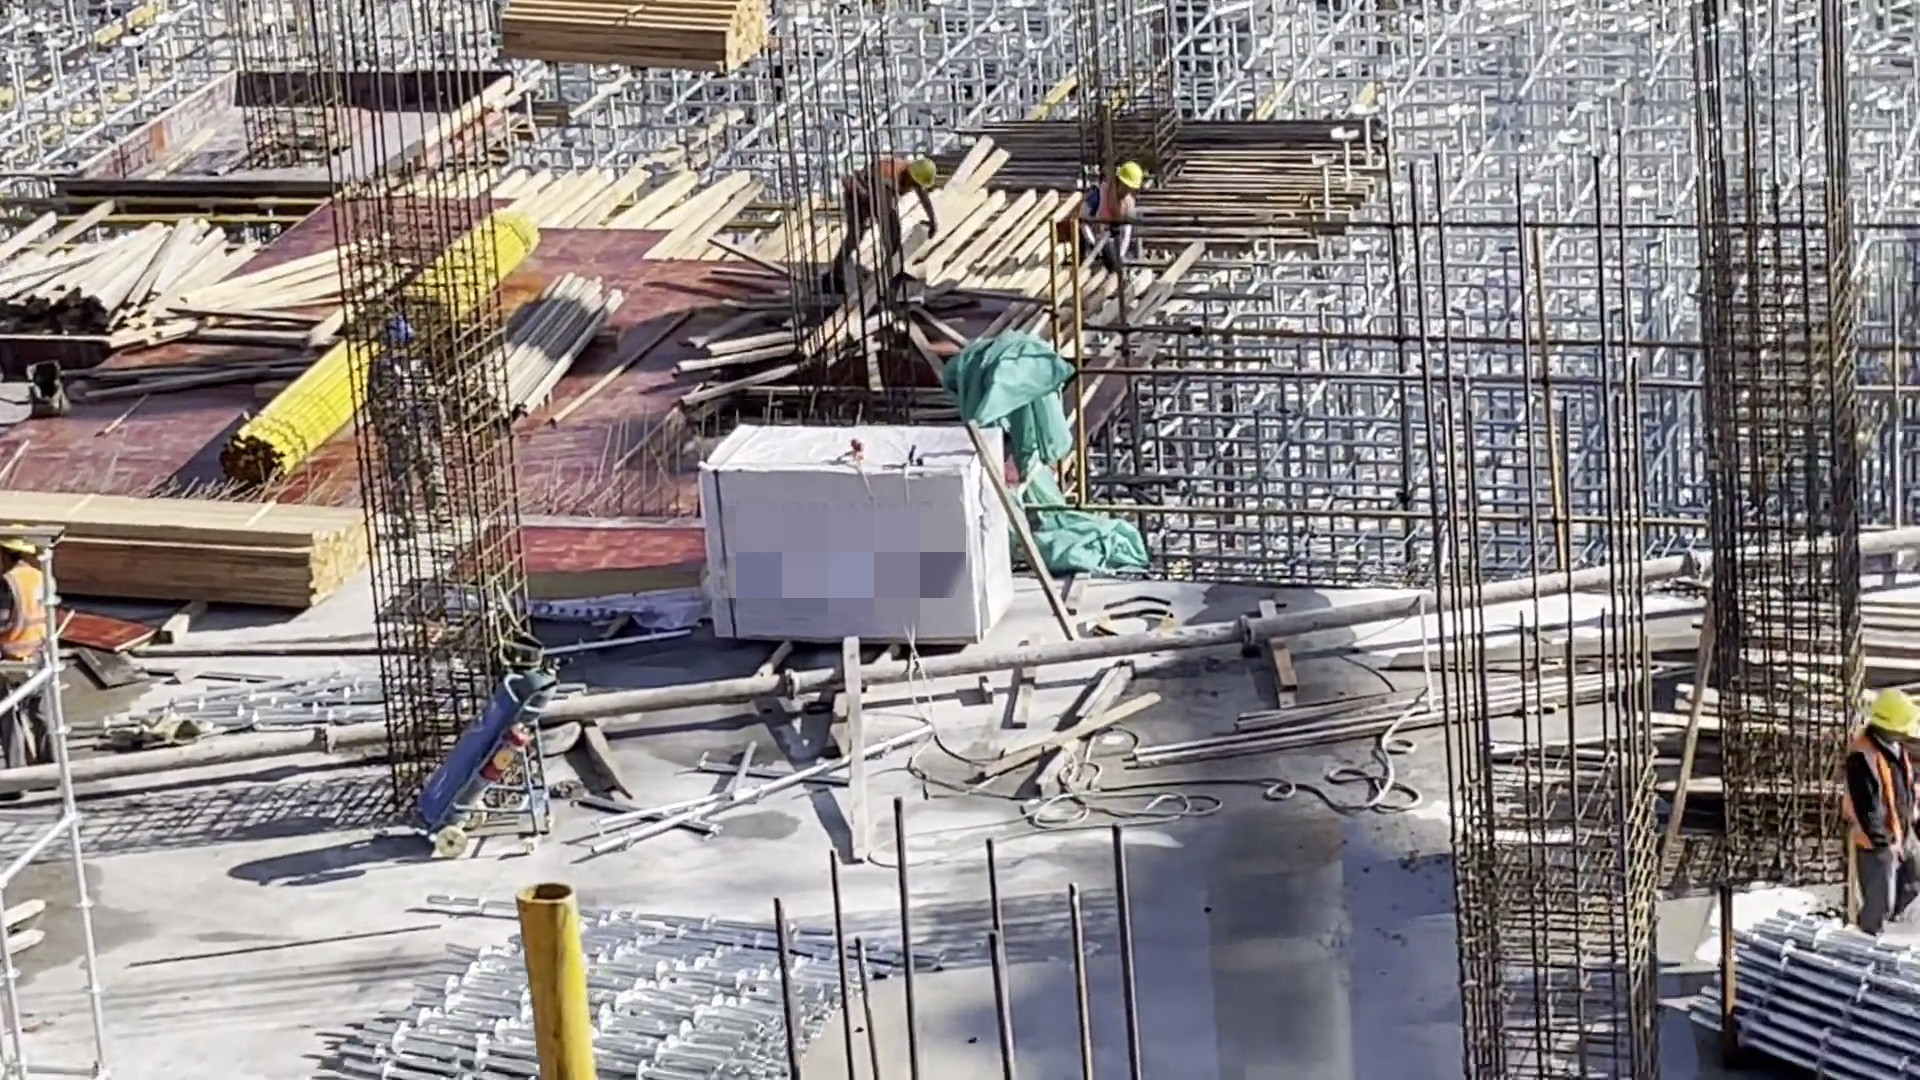helmet: (1863, 677, 1915, 742), (905, 154, 940, 192), (1114, 164, 1144, 196)
person: (363, 316, 458, 555), (1844, 679, 1920, 950), (1, 537, 60, 819), (831, 154, 945, 283), (1067, 159, 1146, 264)
scaffold: (315, 893, 926, 1080), (1687, 906, 1920, 1080)
vest: (1846, 732, 1920, 863), (1, 563, 46, 675), (1090, 186, 1138, 228)
wood: (1, 207, 351, 360), (55, 483, 377, 611), (487, 1, 772, 73)
